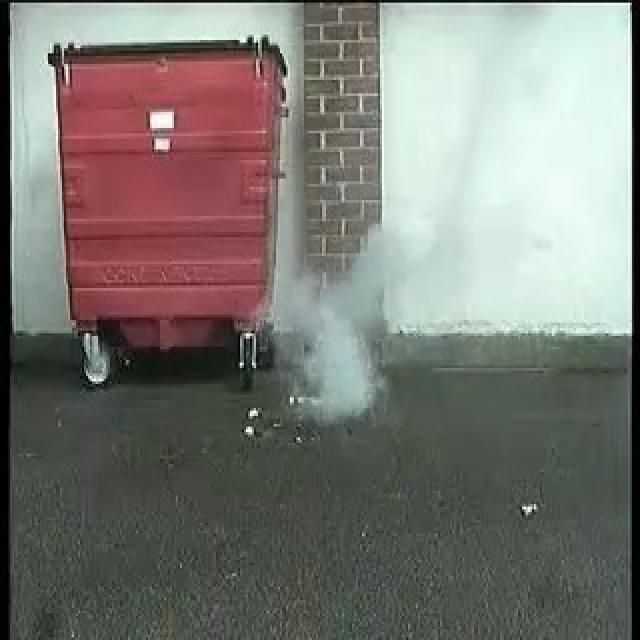smoke: (274, 241, 398, 417)
